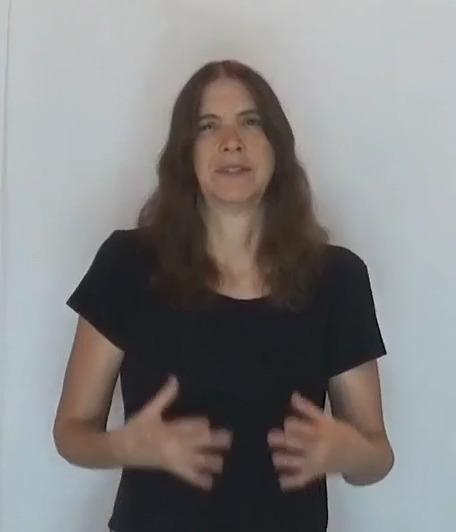Dolor: (33, 60, 423, 514)
